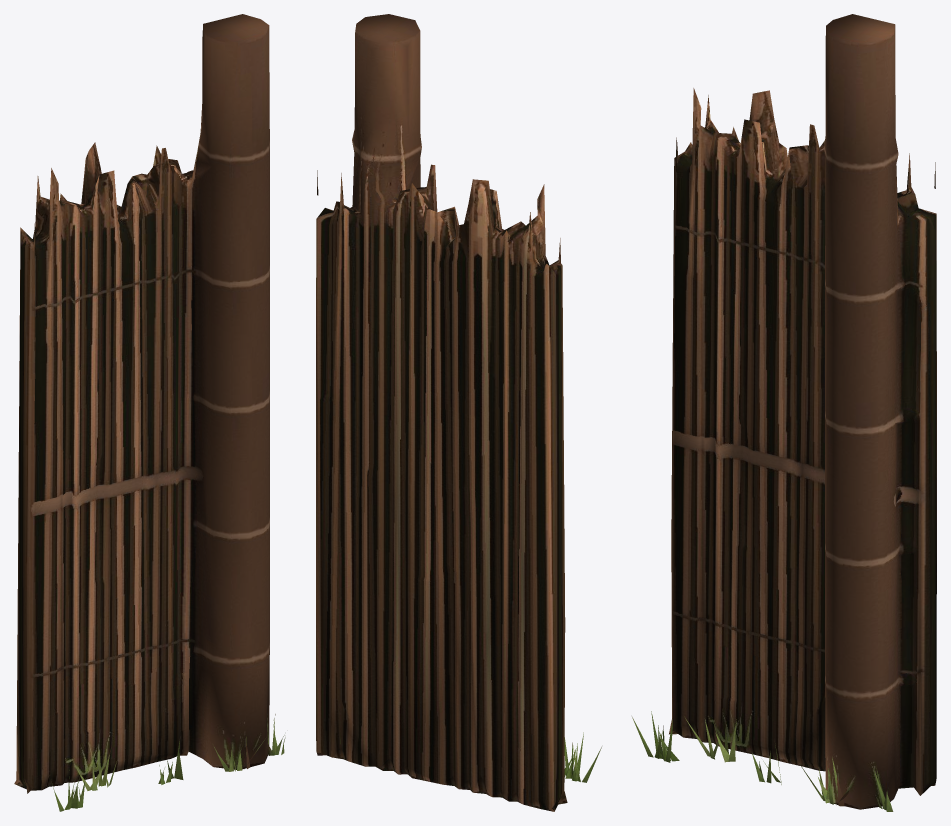
File: fence_reed_end_e.glb
The picture shows the model from 3 angles, left to right: view 1: azimuth 30°, elevation 25°; view 2: azimuth 150°, elevation 25°; view 3: azimuth 330°, elevation 25°; orthographic projection. The views are drawn at different scales.
Visible parts, largest first — view 1: fence_reed_end_e_lod0; view 2: fence_reed_end_e_lod0; view 3: fence_reed_end_e_lod0.
Boxes of the visible parts, left/top/right/bottom form: fence_reed_end_e_lod0: left=14, top=14, right=285, bottom=811; fence_reed_end_e_lod0: left=316, top=14, right=601, bottom=811; fence_reed_end_e_lod0: left=632, top=14, right=936, bottom=811.
Bounding box in the file's own units: 0.6298 × 1.74 × 0.2049.
Materials: 1 (1 with a texture image).
